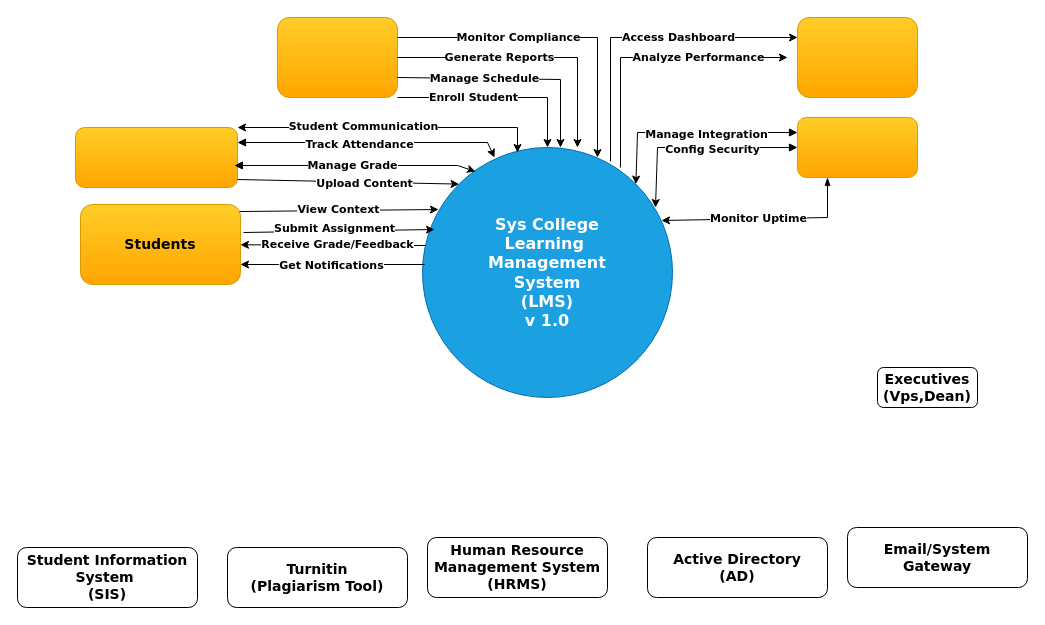
Image size: 1045x625. Some labels were removed from this diagram. The centre of each missing label's shape, as x and y in pixels:
Admin Staff: (x=337, y=57)
Department Heads: (x=857, y=57)
Faculty (Lecturers): (x=156, y=157)
IT Department: (x=857, y=147)
